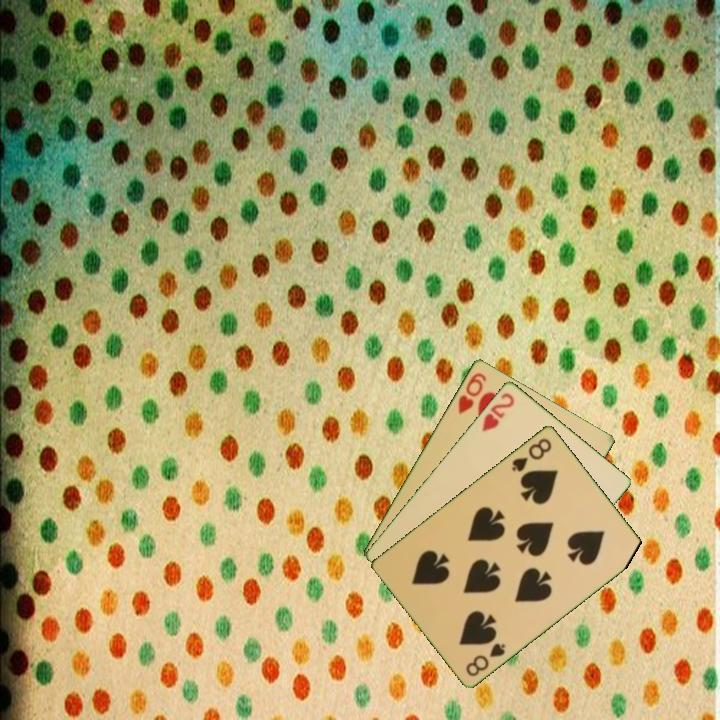2h: (478, 389, 517, 434)
6h: (454, 369, 489, 417)
8s: (508, 434, 555, 474), (462, 639, 508, 679)
